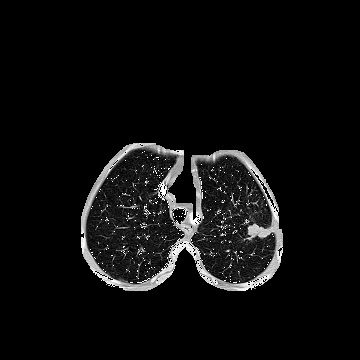PN: (250, 221, 270, 241)
